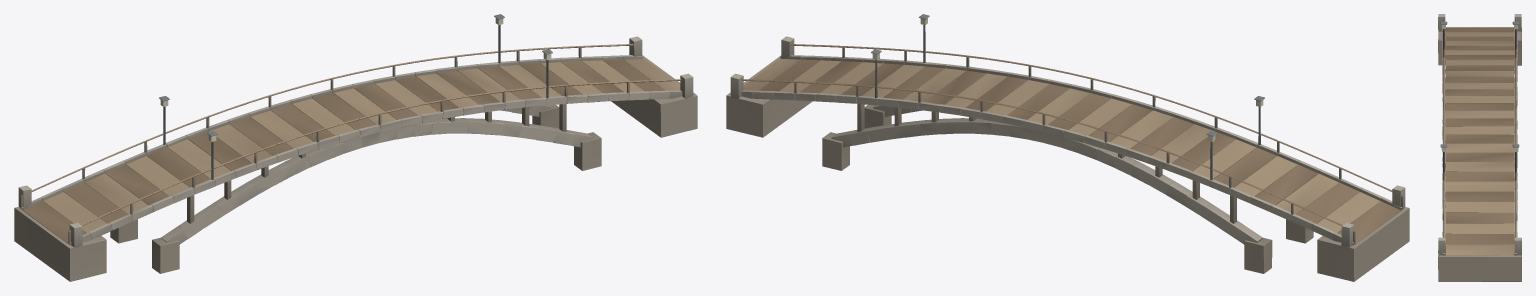
File: bridge_yunseul_low.glb
The picture shows the model from 3 angles, left to right: view 1: azimuth 30°, elevation 25°; view 2: azimuth 150°, elevation 25°; view 3: azimuth 270°, elevation 25°; orthographic projection. The views are drawn at different scales.
Bounding box in the file's own units: 50.57 × 9.82 × 7.78.
